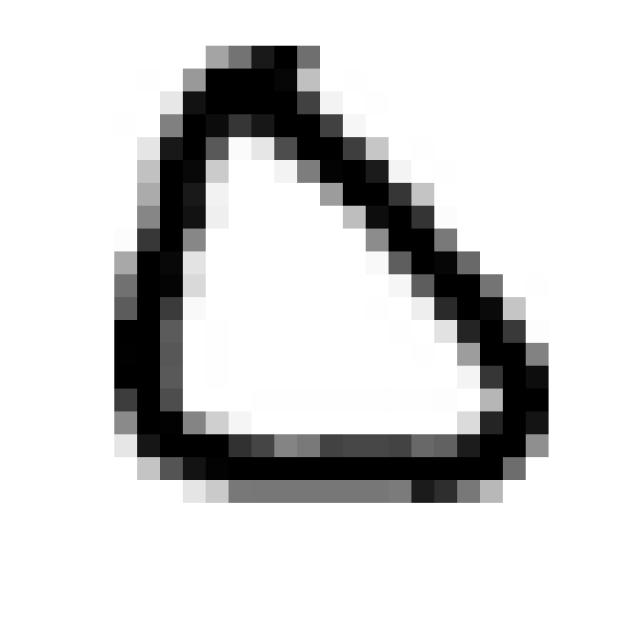5 -five-: (94, 27, 566, 517)
